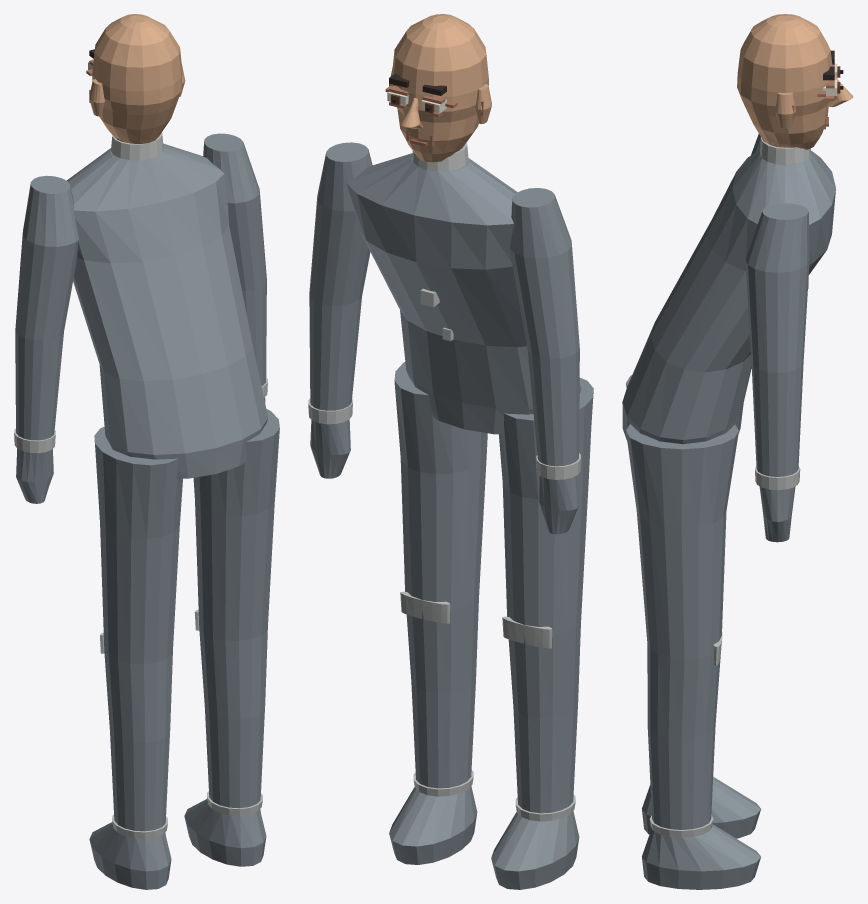
Rendered from visual-far.glb.
3 views of the same model, side by side, from view 1: azimuth 30°, elevation 25°; view 2: azimuth 150°, elevation 25°; view 3: azimuth 270°, elevation 25° (orthographic). The views are drawn at different scales.
Parts seen in each view (by area): view 1: 精细体素老年身体母版 · stoop局部派生, 精细老年头部母版; view 2: 精细体素老年身体母版 · stoop局部派生, 精细老年头部母版; view 3: 精细体素老年身体母版 · stoop局部派生, 精细老年头部母版.
Boxes of the visible parts, x1,y1,x2,y2 form: 精细体素老年身体母版 · stoop局部派生: (14,132,279,889); 精细老年头部母版: (86,14,185,143); 精细体素老年身体母版 · stoop局部派生: (308,142,593,889); 精细老年头部母版: (385,14,491,162); 精细体素老年身体母版 · stoop局部派生: (622,134,835,889); 精细老年头部母版: (737,14,853,149).
Size of the model in its own units: 0.5128 by 1.59 by 0.4002.
Materials: 9 (9 with a texture image).
